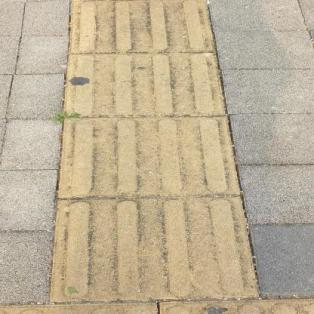Podoctatil: (33, 0, 266, 303)
